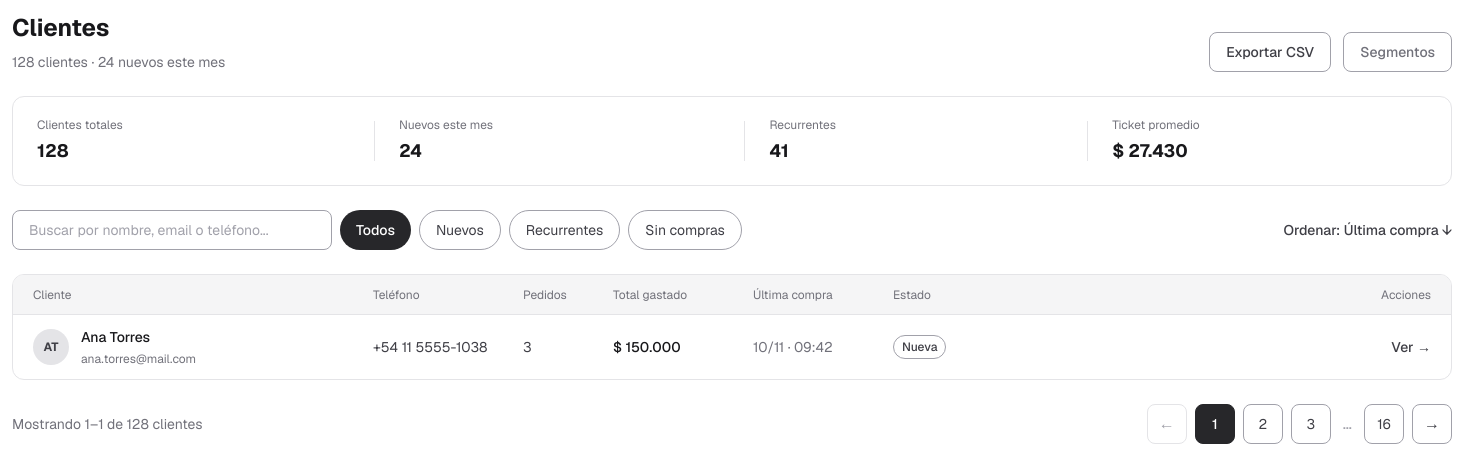
Test: AdminClientsWorkspace › maps the Nuevos pill to the nueva segment
Click the button "Nuevos" at (460, 230), box [419,210,501,250]
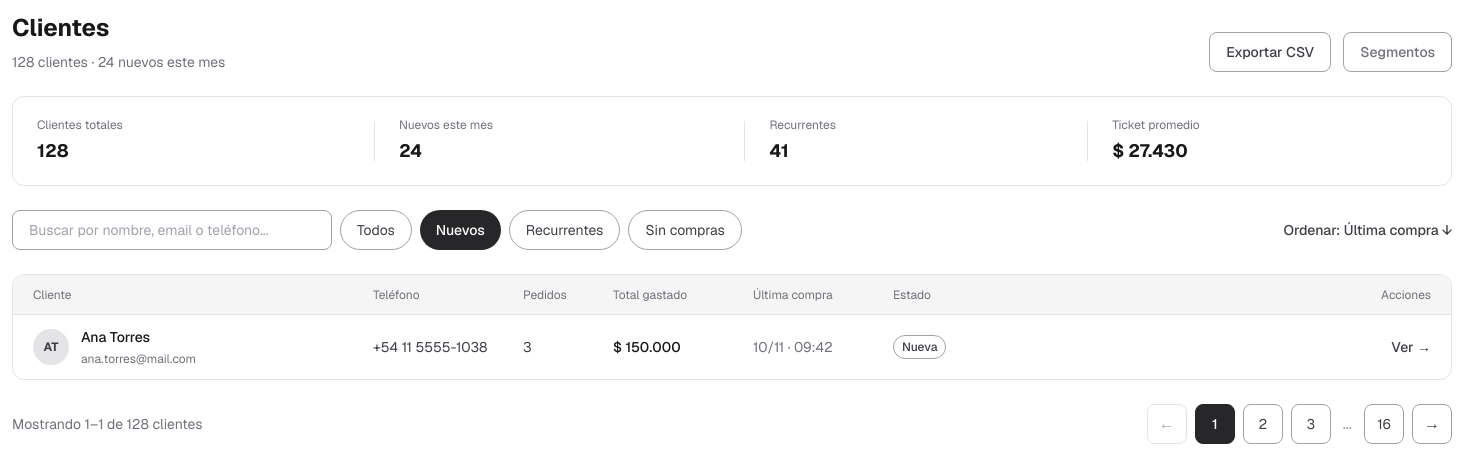
Check: the button "Nuevos" is marked as current, box [420,210,501,250]
